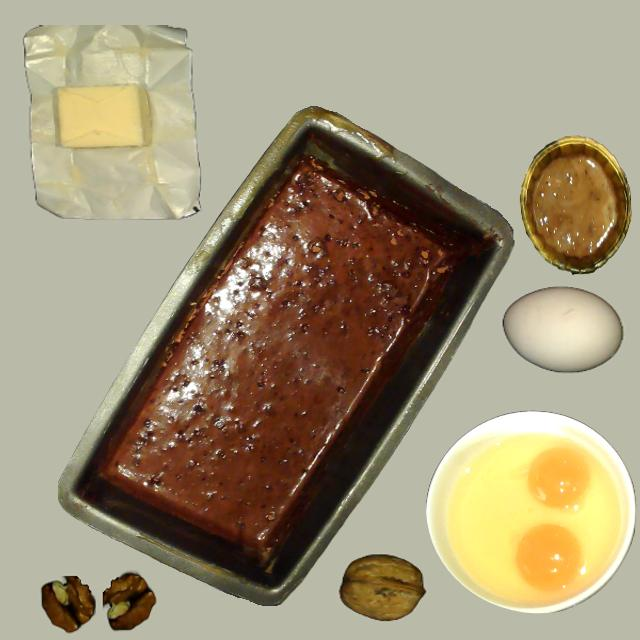Egg: (433, 518, 623, 620), (494, 412, 608, 511)
Walnut: (331, 549, 434, 629)
